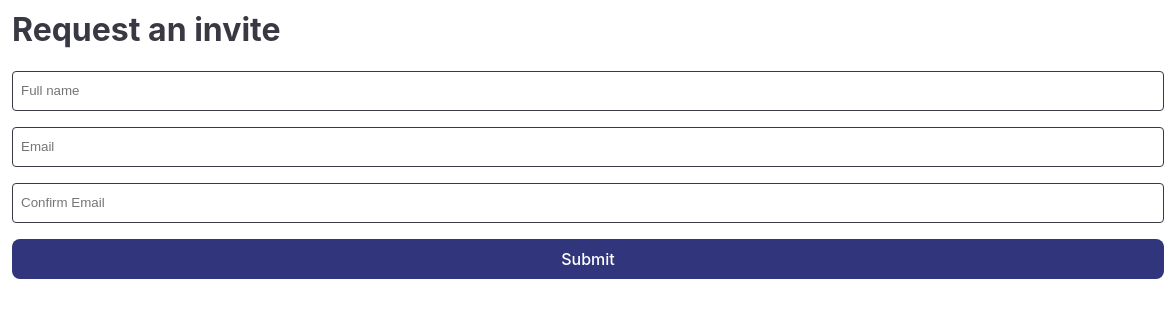
Test case: InviteRequestModal › displays validation error if full name is too short
Type "bv" into the field with test id "full-name-input" at {"x": 588, "y": 91}, box [12,71,1164,111]
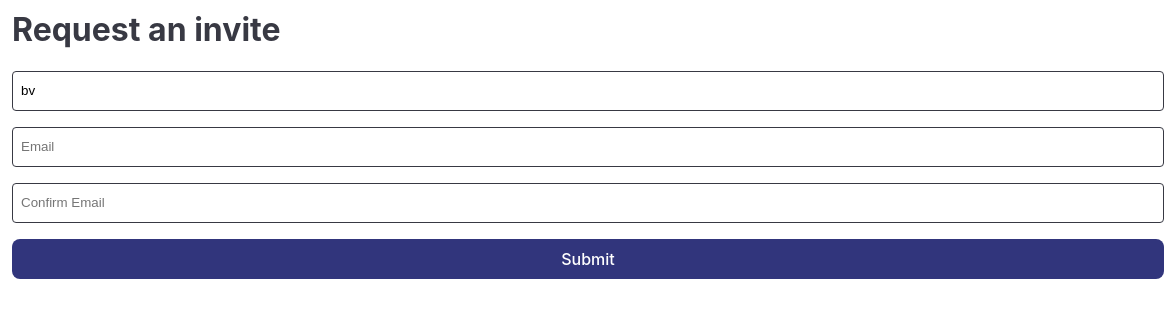
Type "bvi@test.com" into the field with test id "email-input" at {"x": 588, "y": 147}, box [12,127,1164,167]
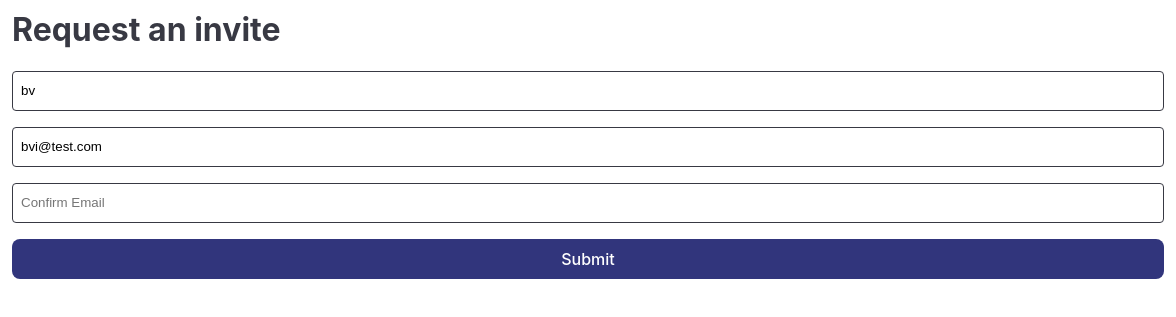
Type "bvi@test.com" into the field with test id "email-confirmation-input" at {"x": 588, "y": 203}, box [12,183,1164,223]
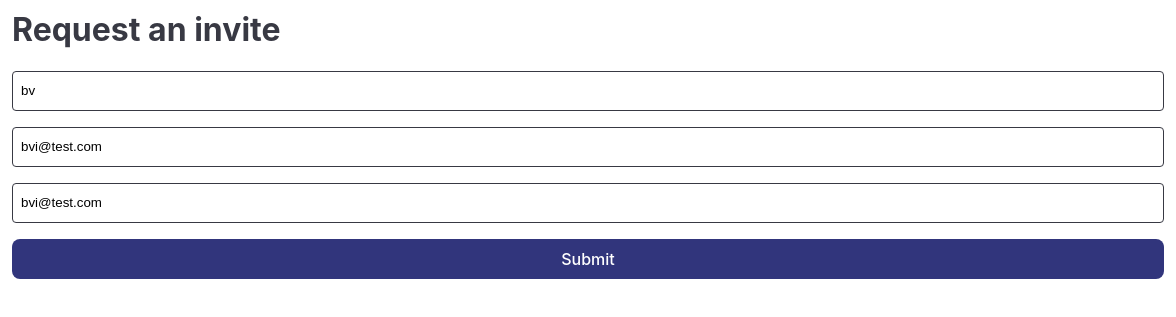
Click the button with test id "submit-request-button" at {"x": 588, "y": 259}, box [12,239,1164,279]
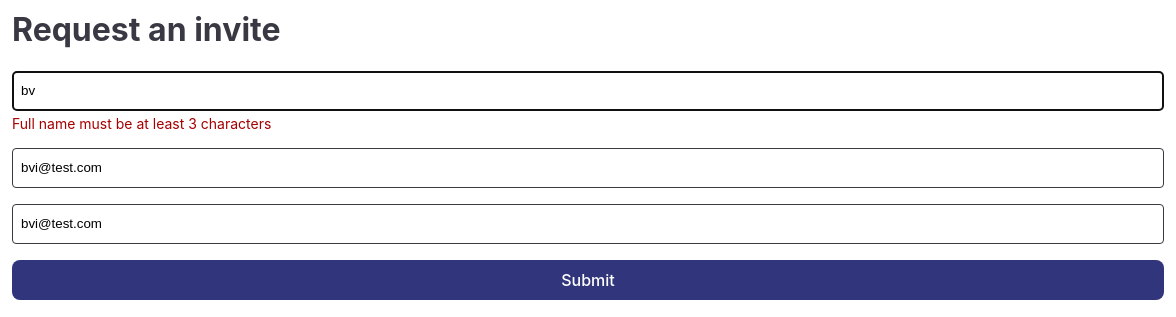
Expected: the text "Full name must be at least 3 characters" is shown, [12,115,271,132]
